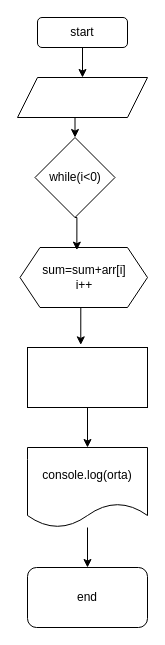
Image size: 165x645. Some labels were removed from this diagram. Here are the shapes that lost their labels. From the top down, the centre of each, then its label:
At point 82,97: "let i=0; sum=0".
At point 87,377: "orta=sum/10".
